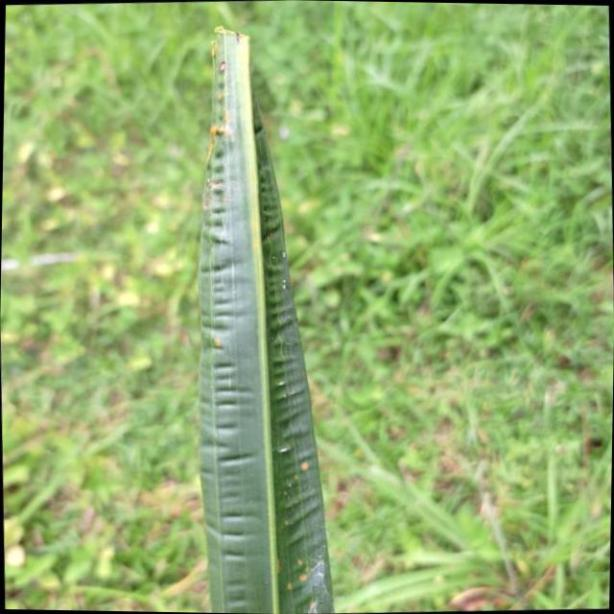Boron: (195, 16, 334, 614)
